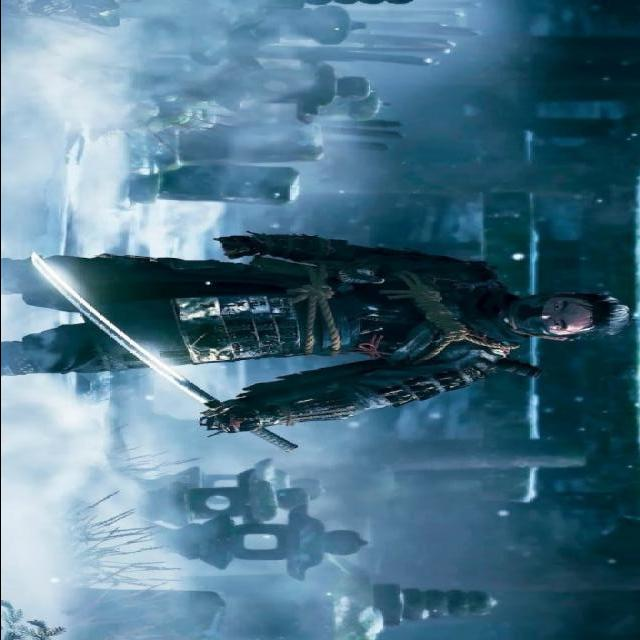katana: (32, 251, 302, 454)
